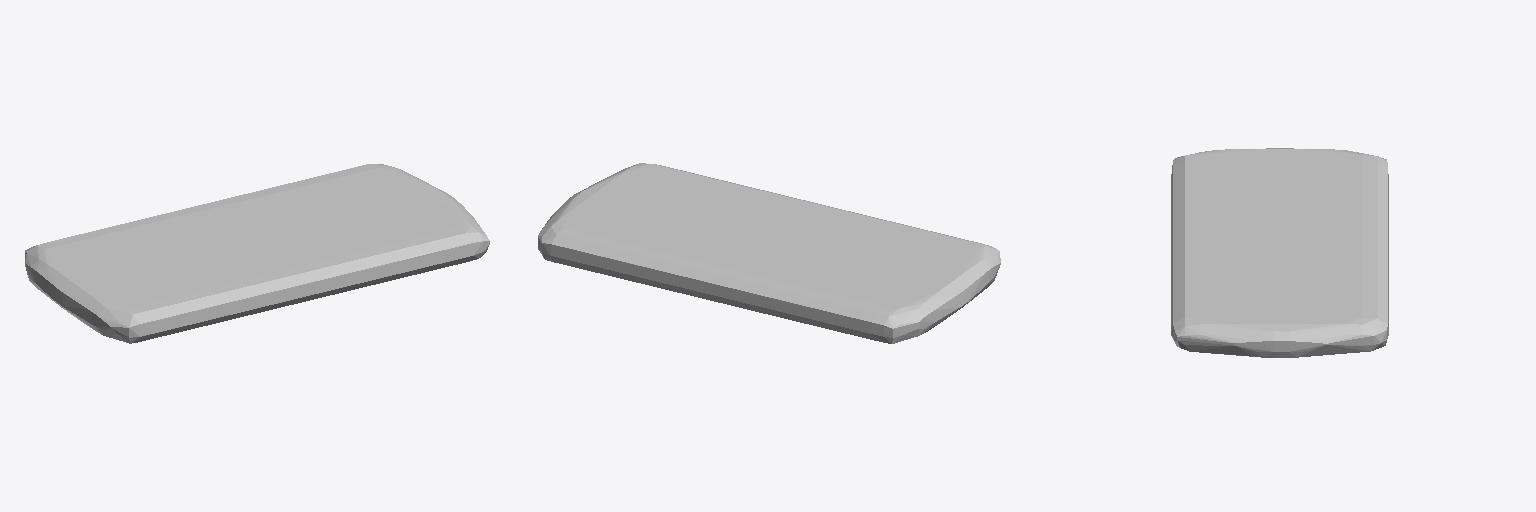
Rendered from sofa_collision_2.obj.
The picture shows the model from 3 angles: view 1: azimuth 30°, elevation 25°; view 2: azimuth 150°, elevation 25°; view 3: azimuth 270°, elevation 25°; orthographic projection.
Bounding box in the file's own units: 288 × 25 × 138.